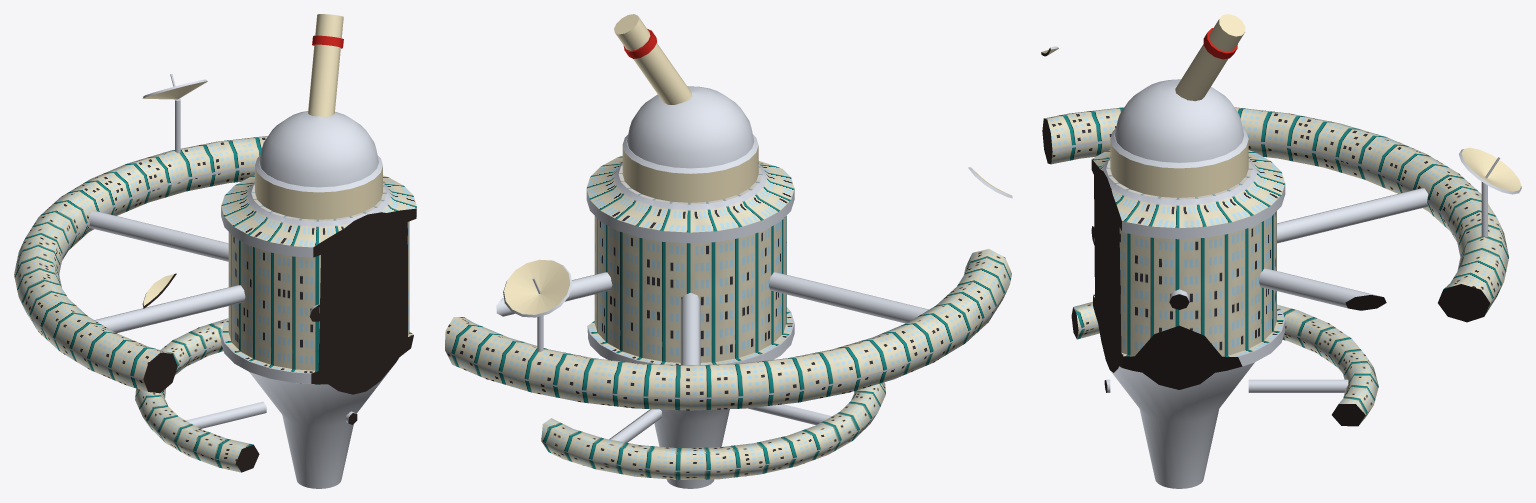
File: research_station_debris2.obj
The picture shows the model from 3 angles, left to right: view 1: azimuth 30°, elevation 25°; view 2: azimuth 150°, elevation 25°; view 3: azimuth 270°, elevation 25°; orthographic projection. The views are drawn at different scales.
Visible parts, largest first — view 1: hub, lab_ring, dome, lab_ring2, spoke, dome_drum, telescope, spoke2, dish; view 2: hub, lab_ring, lab_ring2, dome, spoke, dome_drum, dish, telescope, spoke2; view 3: hub, lab_ring, dome, spoke, lab_ring2, dome_drum, telescope, dish, spoke2.
Boxes of the visible parts, x1,y1,x2,y2 form: hub: [221, 175, 416, 488]; lab_ring: [14, 136, 267, 393]; dome: [259, 111, 378, 187]; lab_ring2: [135, 318, 259, 472]; spoke: [89, 210, 319, 333]; dome_drum: [255, 155, 382, 219]; telescope: [308, 14, 343, 116]; spoke2: [186, 401, 357, 428]; dish: [142, 79, 207, 308]; hub: [586, 156, 794, 488]; lab_ring: [445, 249, 1011, 410]; lab_ring2: [541, 382, 885, 479]; dome: [627, 86, 754, 168]; spoke: [496, 242, 928, 365]; dome_drum: [622, 134, 758, 202]; dish: [503, 167, 1012, 317]; telescope: [614, 14, 692, 104]; spoke2: [609, 404, 831, 442]; hub: [1091, 150, 1285, 488]; lab_ring: [1042, 107, 1508, 322]; dome: [1114, 79, 1243, 162]; spoke: [1091, 188, 1428, 310]; lab_ring2: [1071, 301, 1378, 426]; dome_drum: [1110, 128, 1248, 197]; telescope: [1175, 14, 1245, 101]; dish: [1041, 46, 1521, 194]; spoke2: [1104, 379, 1348, 392].
Size of the model in its own units: 109 by 130 by 118.
5 materials, 1 textured.
